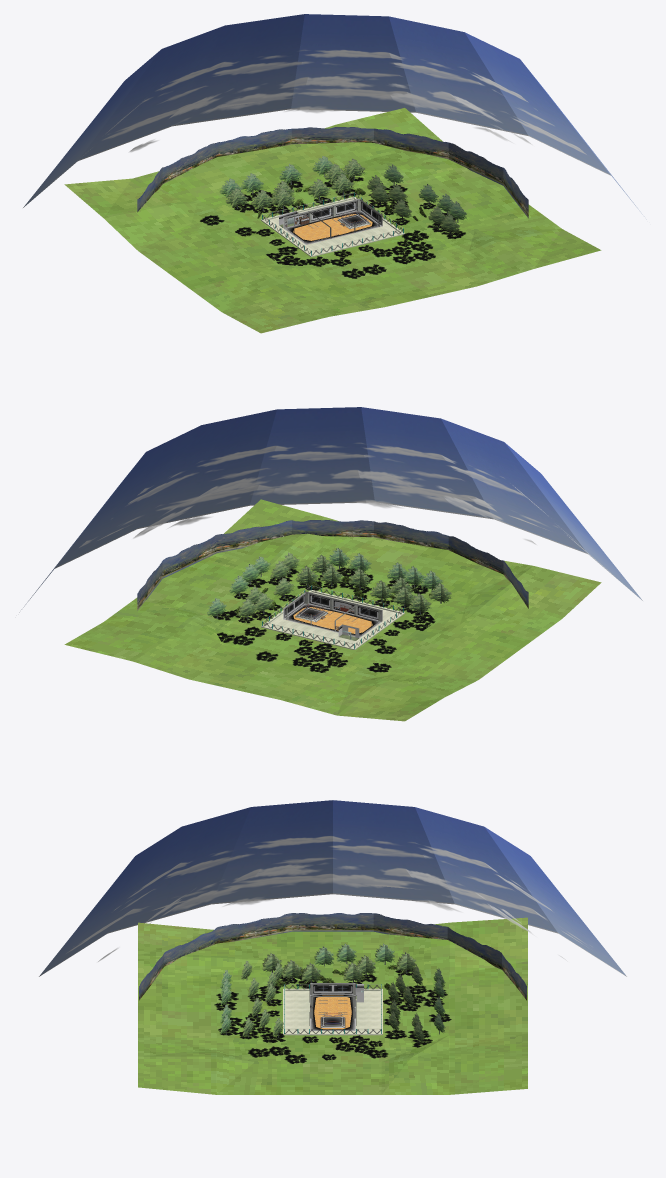
File: box_gym.glb
3 renders of one model, top to bottom at view 1: azimuth 30°, elevation 25°; view 2: azimuth 150°, elevation 25°; view 3: azimuth 270°, elevation 25°, orthographic.
Parts seen in each view (by area): view 1: polygon9, polygon46, polygon44, polygon0, polygon52, polygon110, polygon1, polygon114, polygon258, polygon523, polygon47; view 2: polygon9, polygon46, polygon44, polygon0, polygon52, polygon110, polygon114, polygon1, polygon258, polygon523, polygon526, polygon47 (+1 smaller); view 3: polygon9, polygon46, polygon44, polygon0, polygon52, polygon110, polygon1, polygon114, polygon523, polygon258.
Part boxes in pixels (x1,y1,x2,y2): polygon9: [64, 108, 601, 333]; polygon46: [23, 14, 646, 226]; polygon44: [52, 49, 586, 182]; polygon0: [137, 127, 528, 218]; polygon52: [200, 177, 465, 278]; polygon110: [226, 158, 460, 234]; polygon1: [261, 192, 404, 256]; polygon114: [220, 156, 466, 222]; polygon258: [279, 201, 382, 244]; polygon523: [293, 214, 372, 240]; polygon47: [262, 193, 403, 255]; polygon9: [64, 499, 601, 721]; polygon46: [19, 407, 642, 619]; polygon44: [79, 442, 613, 575]; polygon0: [137, 520, 528, 610]; polygon52: [213, 567, 435, 672]; polygon110: [238, 552, 451, 619]; polygon114: [207, 548, 443, 618]; polygon1: [261, 585, 404, 649]; polygon258: [283, 594, 382, 637]; polygon523: [293, 607, 372, 633]; polygon526: [283, 591, 382, 638]; polygon47: [262, 586, 403, 647]; polygon9: [138, 917, 527, 1094]; polygon46: [39, 800, 626, 1012]; polygon44: [66, 836, 586, 961]; polygon0: [139, 913, 526, 1000]; polygon52: [214, 969, 451, 1063]; polygon110: [241, 952, 424, 1043]; polygon1: [283, 984, 382, 1035]; polygon114: [220, 943, 445, 1035]; polygon523: [314, 995, 351, 1029]; polygon258: [310, 984, 363, 1030].
Size of the model in its own units: 1963 by 578 by 1963.
35 materials, 33 textured.
